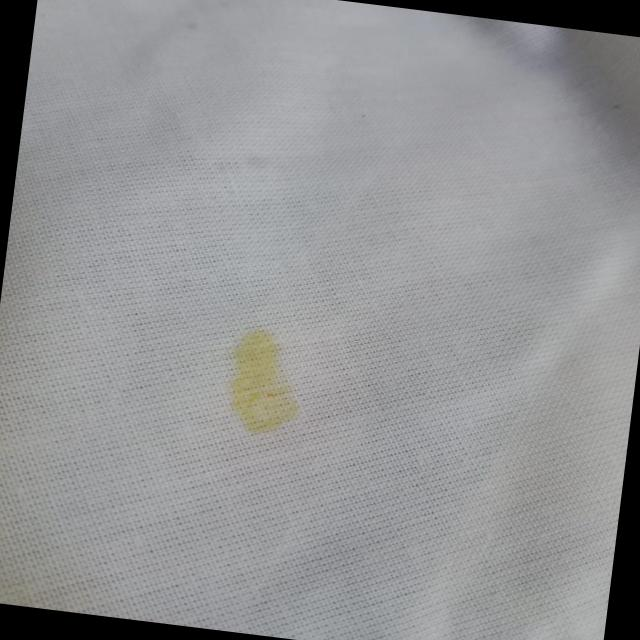stain: (210, 319, 312, 446)
